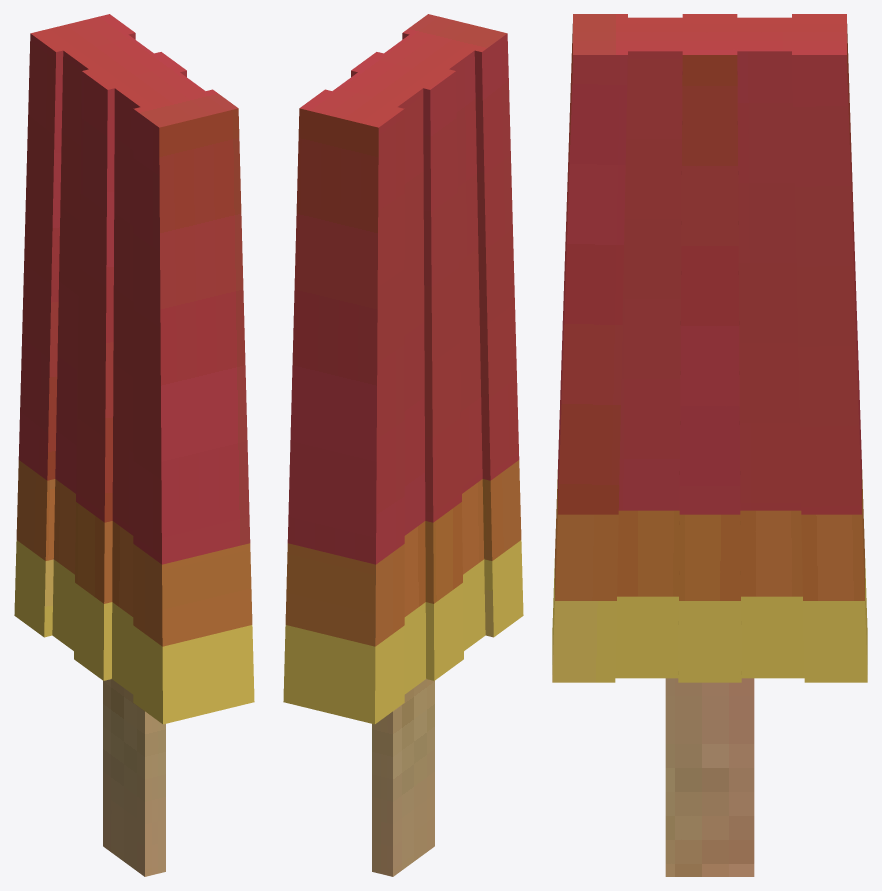
File: CHAHIN_POPSICLE.obj
3 renders of one model, left to right at view 1: azimuth 30°, elevation 25°; view 2: azimuth 150°, elevation 25°; view 3: azimuth 270°, elevation 25°, orthographic. The views are drawn at different scales.
Parts seen in each view (by area): view 1: Cube.005_Cube.004; view 2: Cube.005_Cube.004; view 3: Cube.005_Cube.004.
Boxes of the visible parts, bbox=[...] form: Cube.005_Cube.004: bbox=[14, 14, 254, 876]; Cube.005_Cube.004: bbox=[283, 14, 523, 876]; Cube.005_Cube.004: bbox=[552, 14, 867, 876].
Size of the model in its own units: 0.1556 by 1.28 by 0.4376.
Materials: 1 (1 with a texture image).
